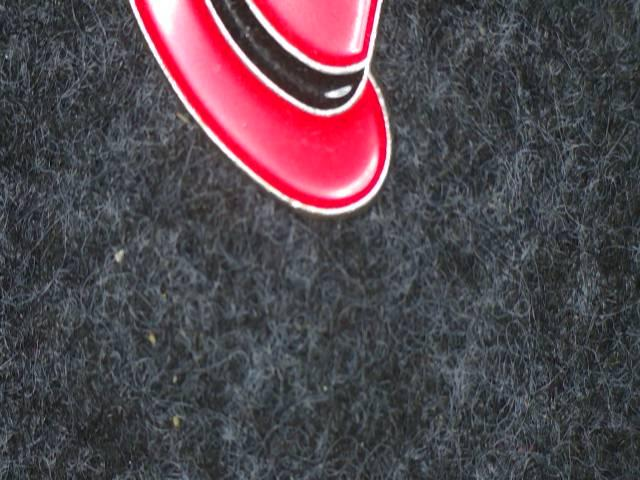Red-Hat: (71, 0, 417, 247)
